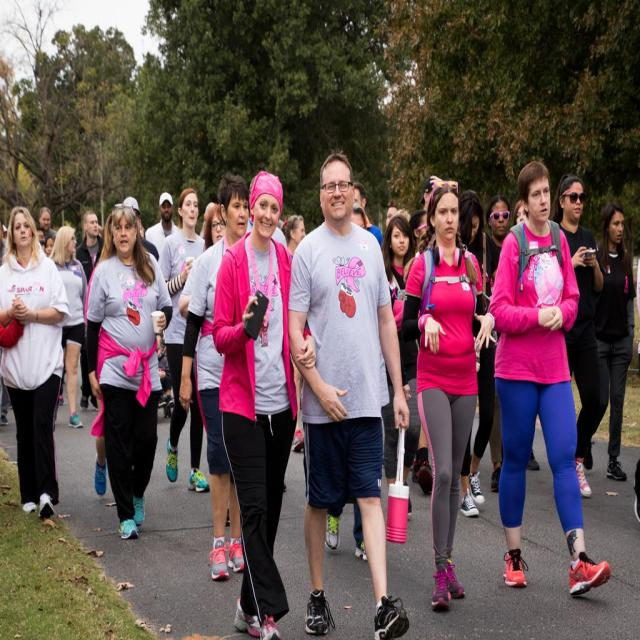body: (0, 184, 639, 415), (278, 142, 416, 639), (481, 156, 613, 600), (210, 167, 318, 640), (396, 167, 495, 622), (84, 203, 175, 542), (177, 170, 250, 581), (0, 197, 72, 528), (553, 170, 607, 500), (158, 184, 214, 496), (580, 198, 637, 484), (455, 189, 499, 519), (380, 213, 422, 521), (46, 223, 90, 432), (83, 212, 115, 498), (75, 207, 106, 413), (176, 202, 228, 321), (122, 195, 160, 264), (144, 190, 179, 255), (280, 213, 308, 263), (632, 450, 640, 518)
